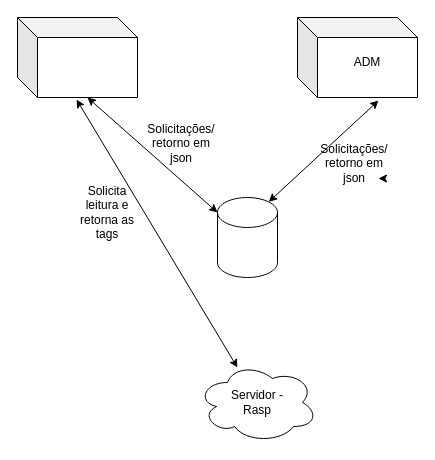
Image size: 435x460. Some labels were removed from this diagram. The shapes that lost their labels are listed below. From the top down, each one's centre as x and y in pixels, then its label:
At point 77,57: "Caixa".
At point 247,237: "sERVIDOR".
